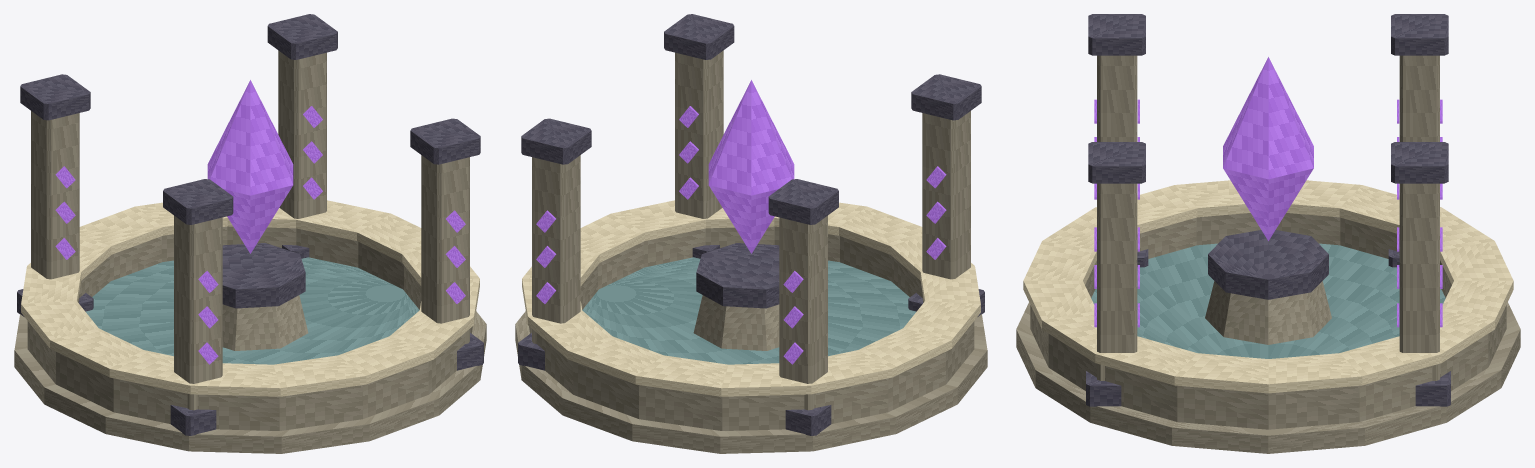
File: Autel_Des_Reliques.glb
The picture shows the model from 3 angles, left to right: view 1: azimuth 30°, elevation 25°; view 2: azimuth 150°, elevation 25°; view 3: azimuth 270°, elevation 25°; orthographic projection. The views are drawn at different scales.
Parts seen in each view (by area): view 1: Structure, Cristal; view 2: Structure, Cristal; view 3: Structure, Cristal.
Boxes of the visible parts, x1,y1,x2,y2 form: Structure: [14, 14, 486, 453]; Cristal: [207, 80, 293, 253]; Structure: [515, 14, 987, 453]; Cristal: [708, 80, 794, 253]; Structure: [1016, 14, 1520, 453]; Cristal: [1223, 57, 1313, 240].
Size of the model in its own units: 5 by 3.18 by 5.
2 materials, 2 textured.
